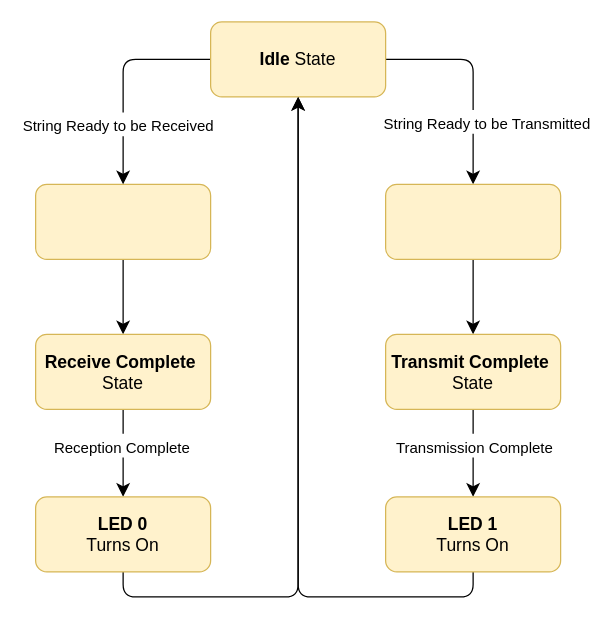
This 611x631 diagram has some shape labels left out. Here are the shapes that lost their labels. From the top down, the centre of each, then its label:
At (122,221): "Ready to Receive State".
At (472,221): "Ready to Transmit State".
